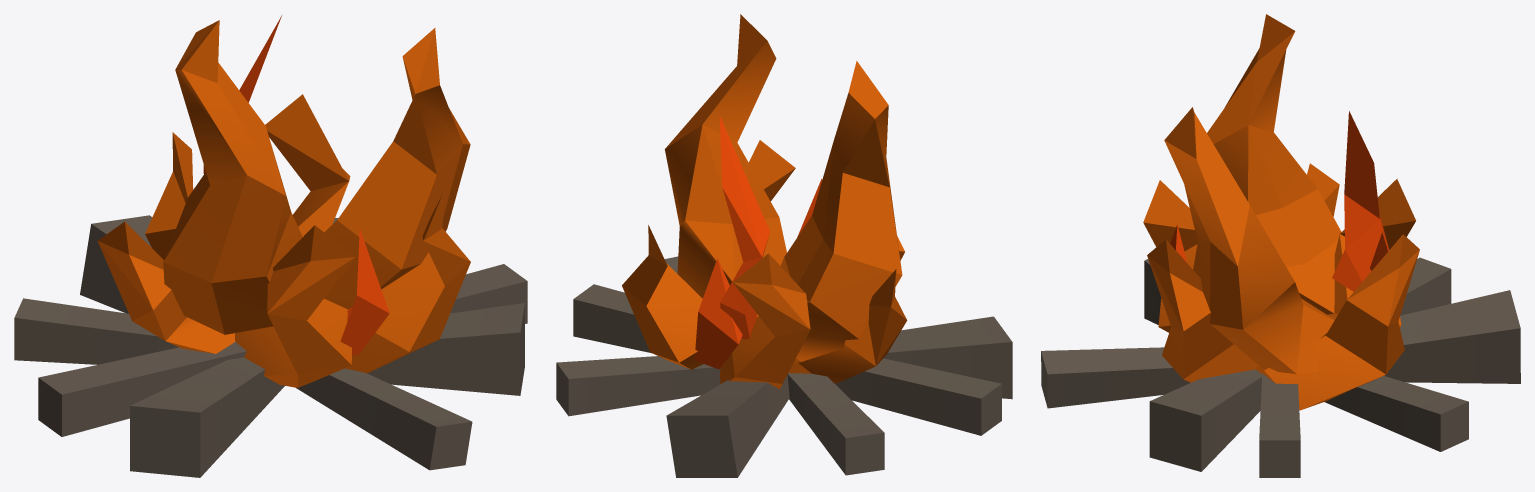
Rendered from Campfire_01.fbx.
3 renders of one model, left to right at view 1: azimuth 30°, elevation 25°; view 2: azimuth 150°, elevation 25°; view 3: azimuth 270°, elevation 25°, orthographic. The views are drawn at different scales.
Visible parts, largest first — view 1: pCube5474; view 2: pCube5474; view 3: pCube5474.
Boxes of the visible parts, x1,y1,x2,y2 form: pCube5474: [14, 15, 527, 477]; pCube5474: [556, 14, 1012, 477]; pCube5474: [1041, 14, 1520, 477].
Bounding box in the file's own units: 1 × 0.7936 × 1.01.
